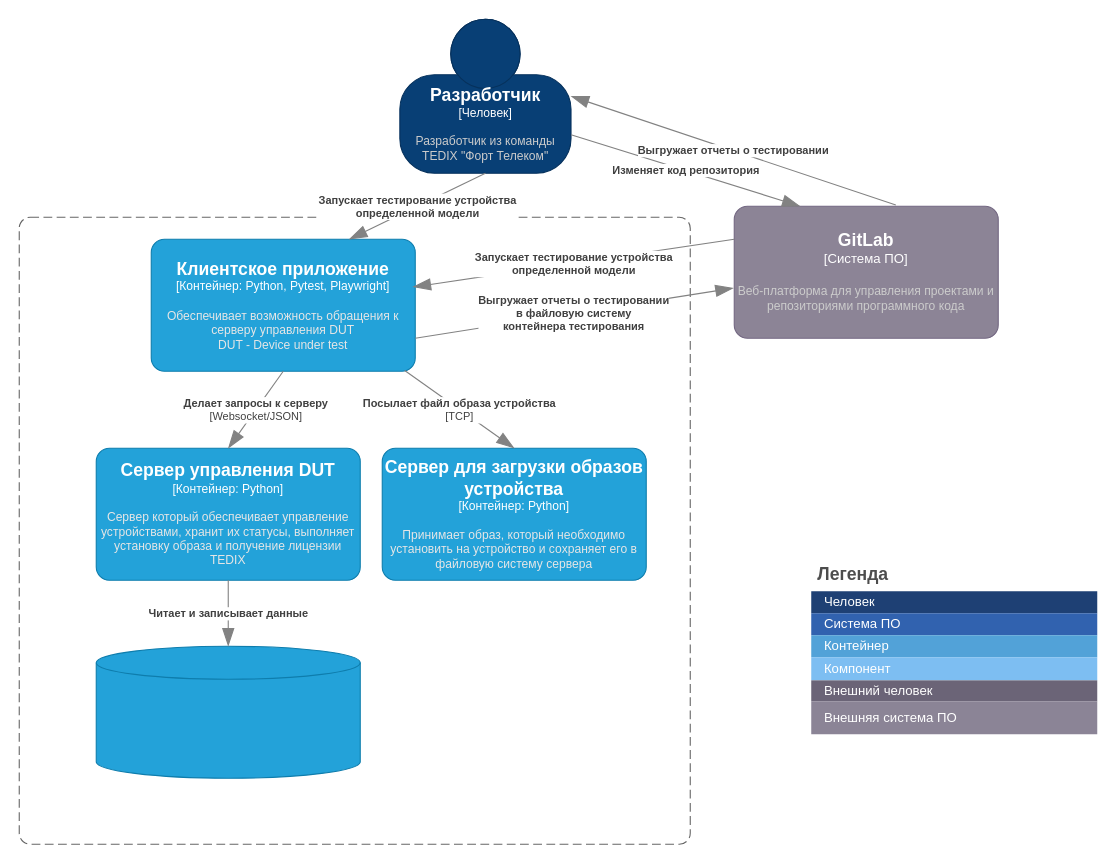
The diagram is 1117 pixels wide and 864 high, and some of its shapes have lost their labels. The box of each missing label's shape, as (x1, y1, x2, y2) in pixels:
БД [Container: PostgreSQL Database] Хранит информацию о тестируемых устройствах: (95, 645, 360, 778)
Супервизор для тестирования [Программно-аппаратный комплекс]: (18, 216, 690, 844)
